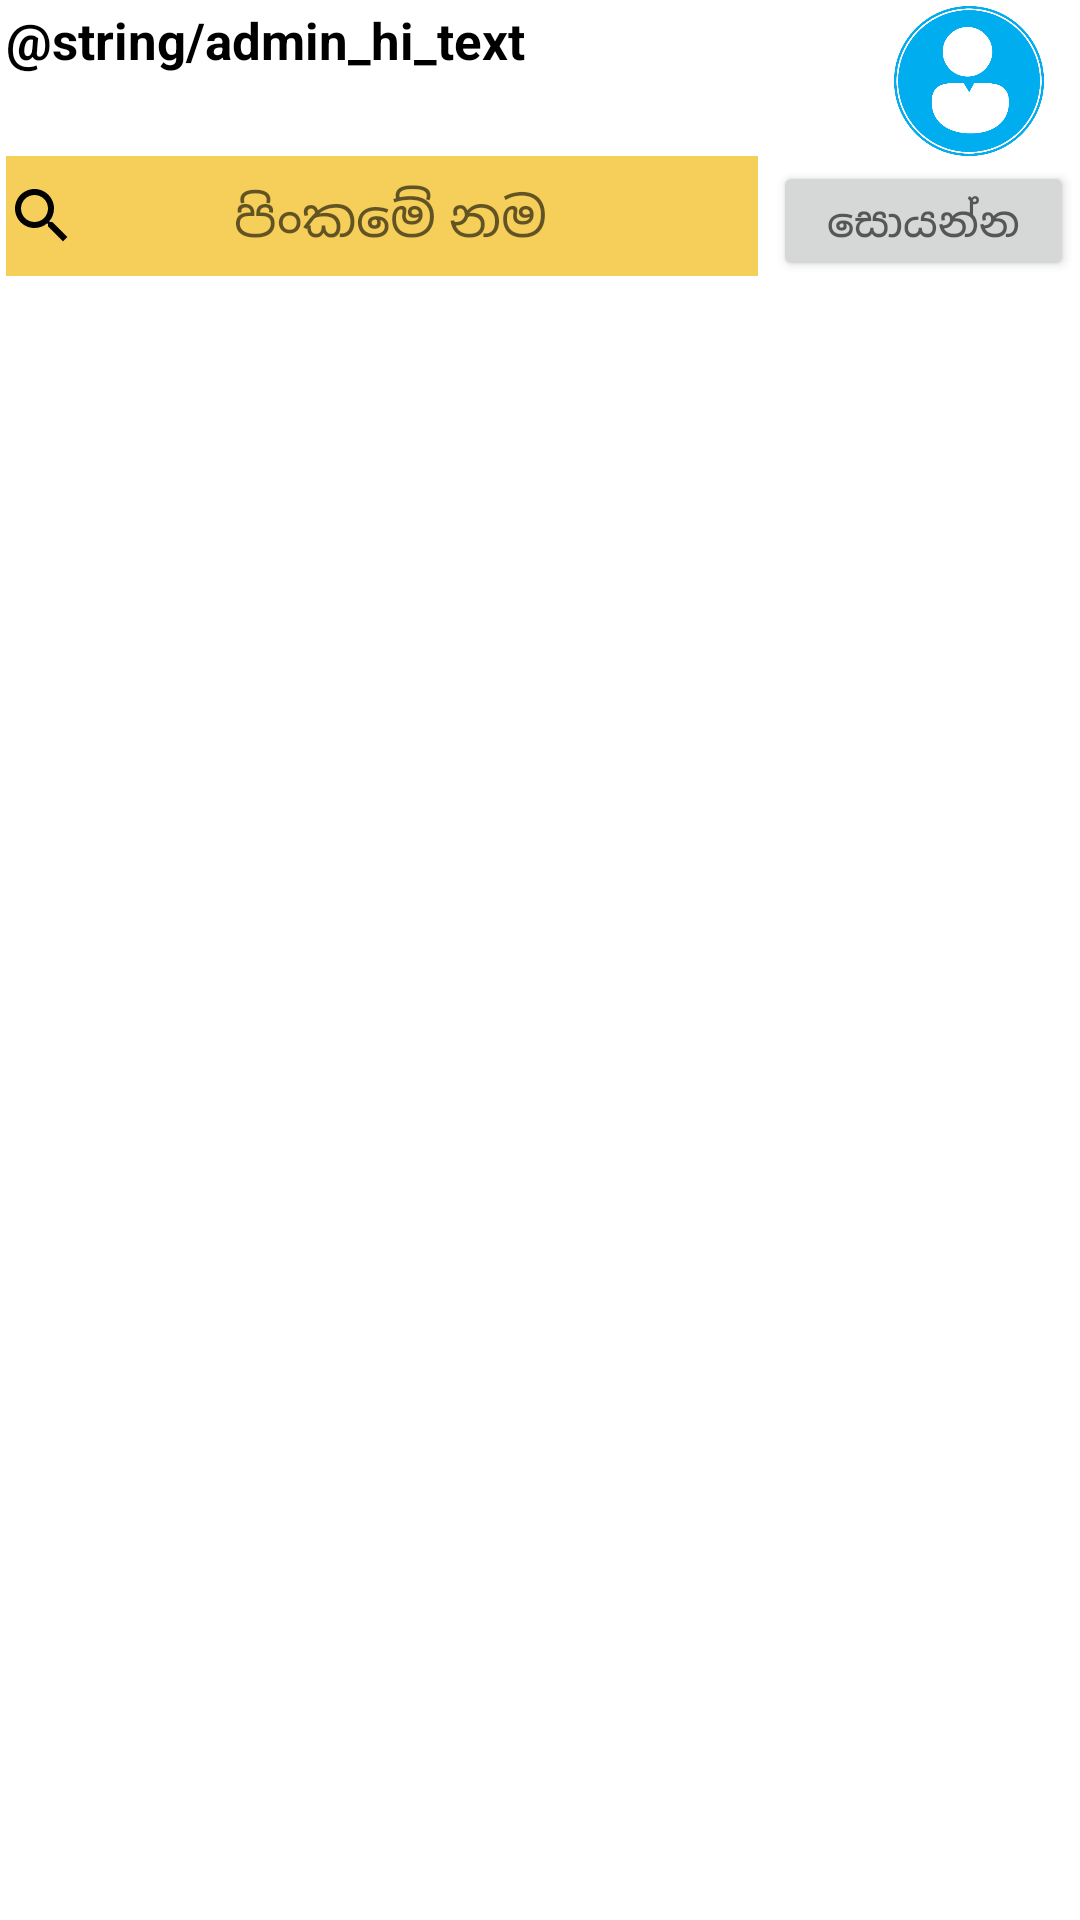

Locate icon controls on the screen. Image size 1080×1920, boxes as Rect(x1, y1, x2, y2).
avatar: Rect(894, 6, 1044, 156)
